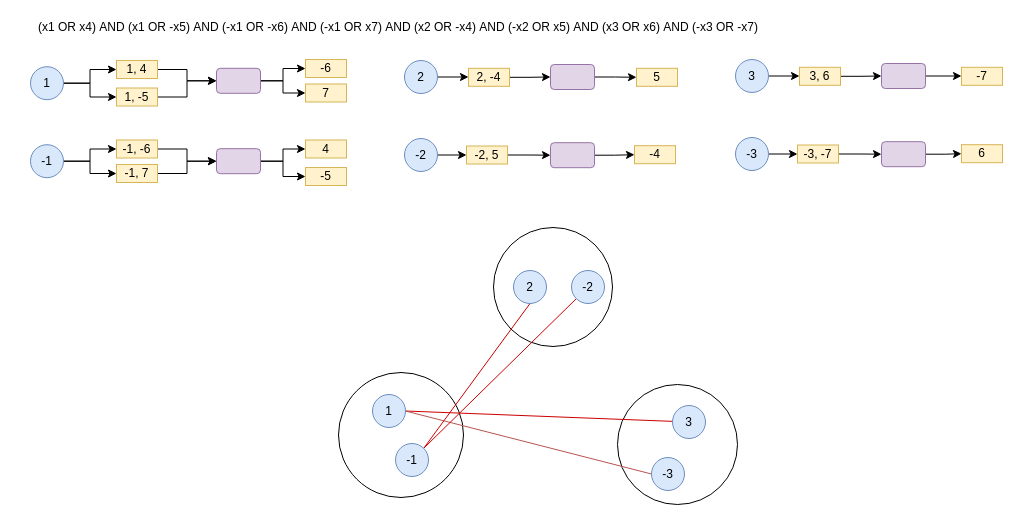
Image size: 1020x522. Some labels were removed from this diagram. The centre of each missing label's shape, as x and y in pixels:
1=A: the point at 238,80
1=Ψ: the point at 238,161
2=A: the point at 572,77
2=Ψ: the point at 572,155
3=A: the point at 903,75
3=Ψ: the point at 903,154
